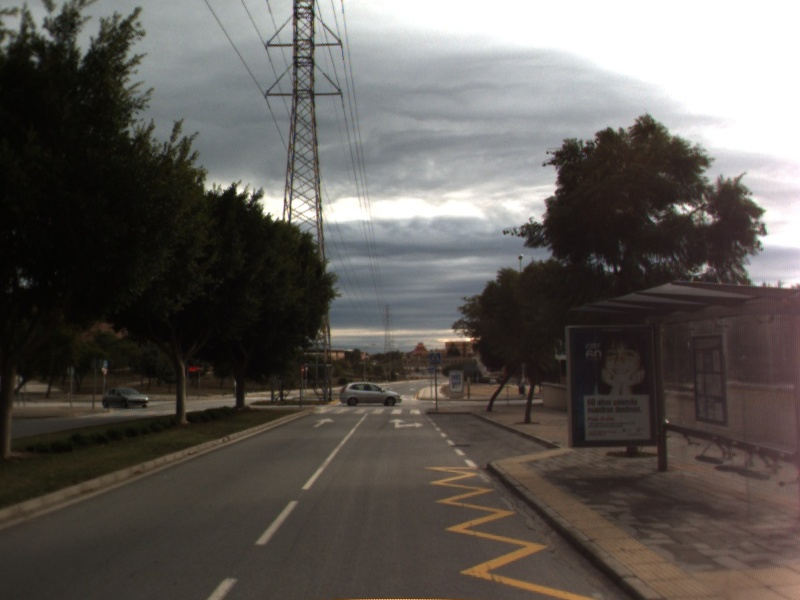STRAIGHT: (312, 416, 337, 429)
STRAIGHT_RIGHT: (386, 416, 425, 430)
